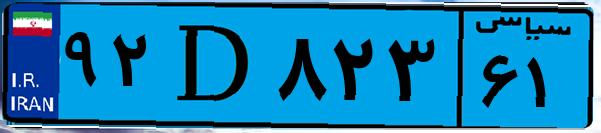1: (525, 38, 570, 115)
2: (330, 28, 385, 110), (110, 28, 158, 98)
3: (385, 28, 445, 110)
6: (475, 38, 525, 113)
8: (270, 28, 330, 110)
9: (57, 26, 110, 100)
D: (158, 12, 270, 120)
